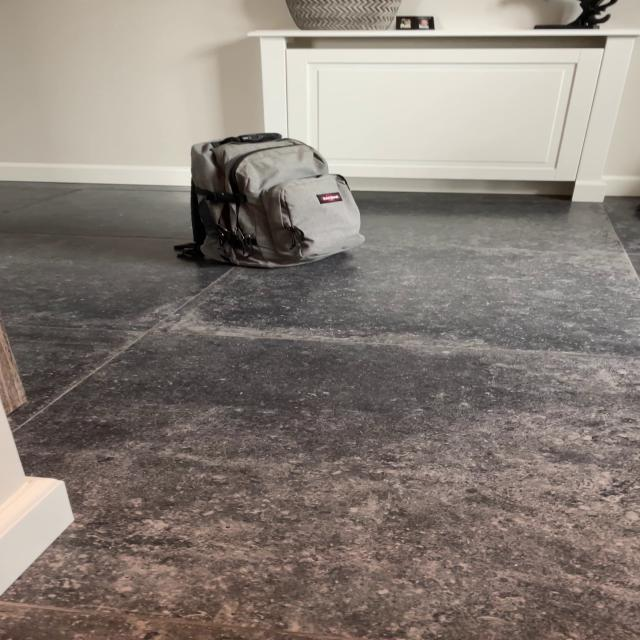backpack: (174, 126, 373, 274)
